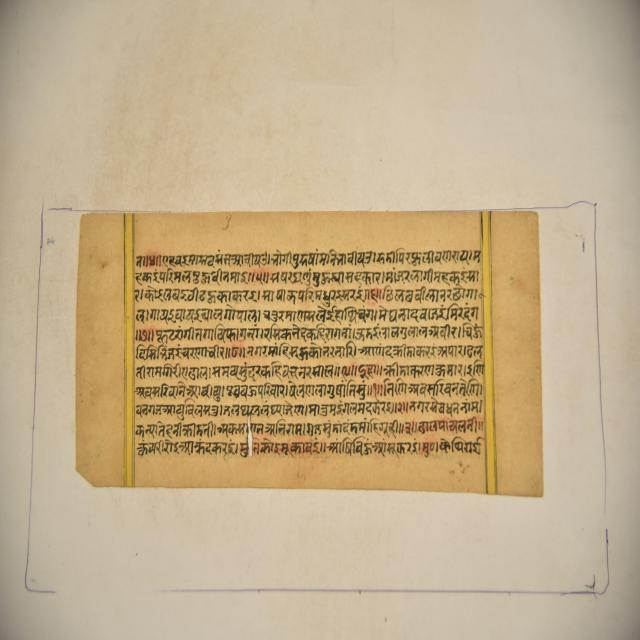text_paragraph: (81, 212, 542, 501)
